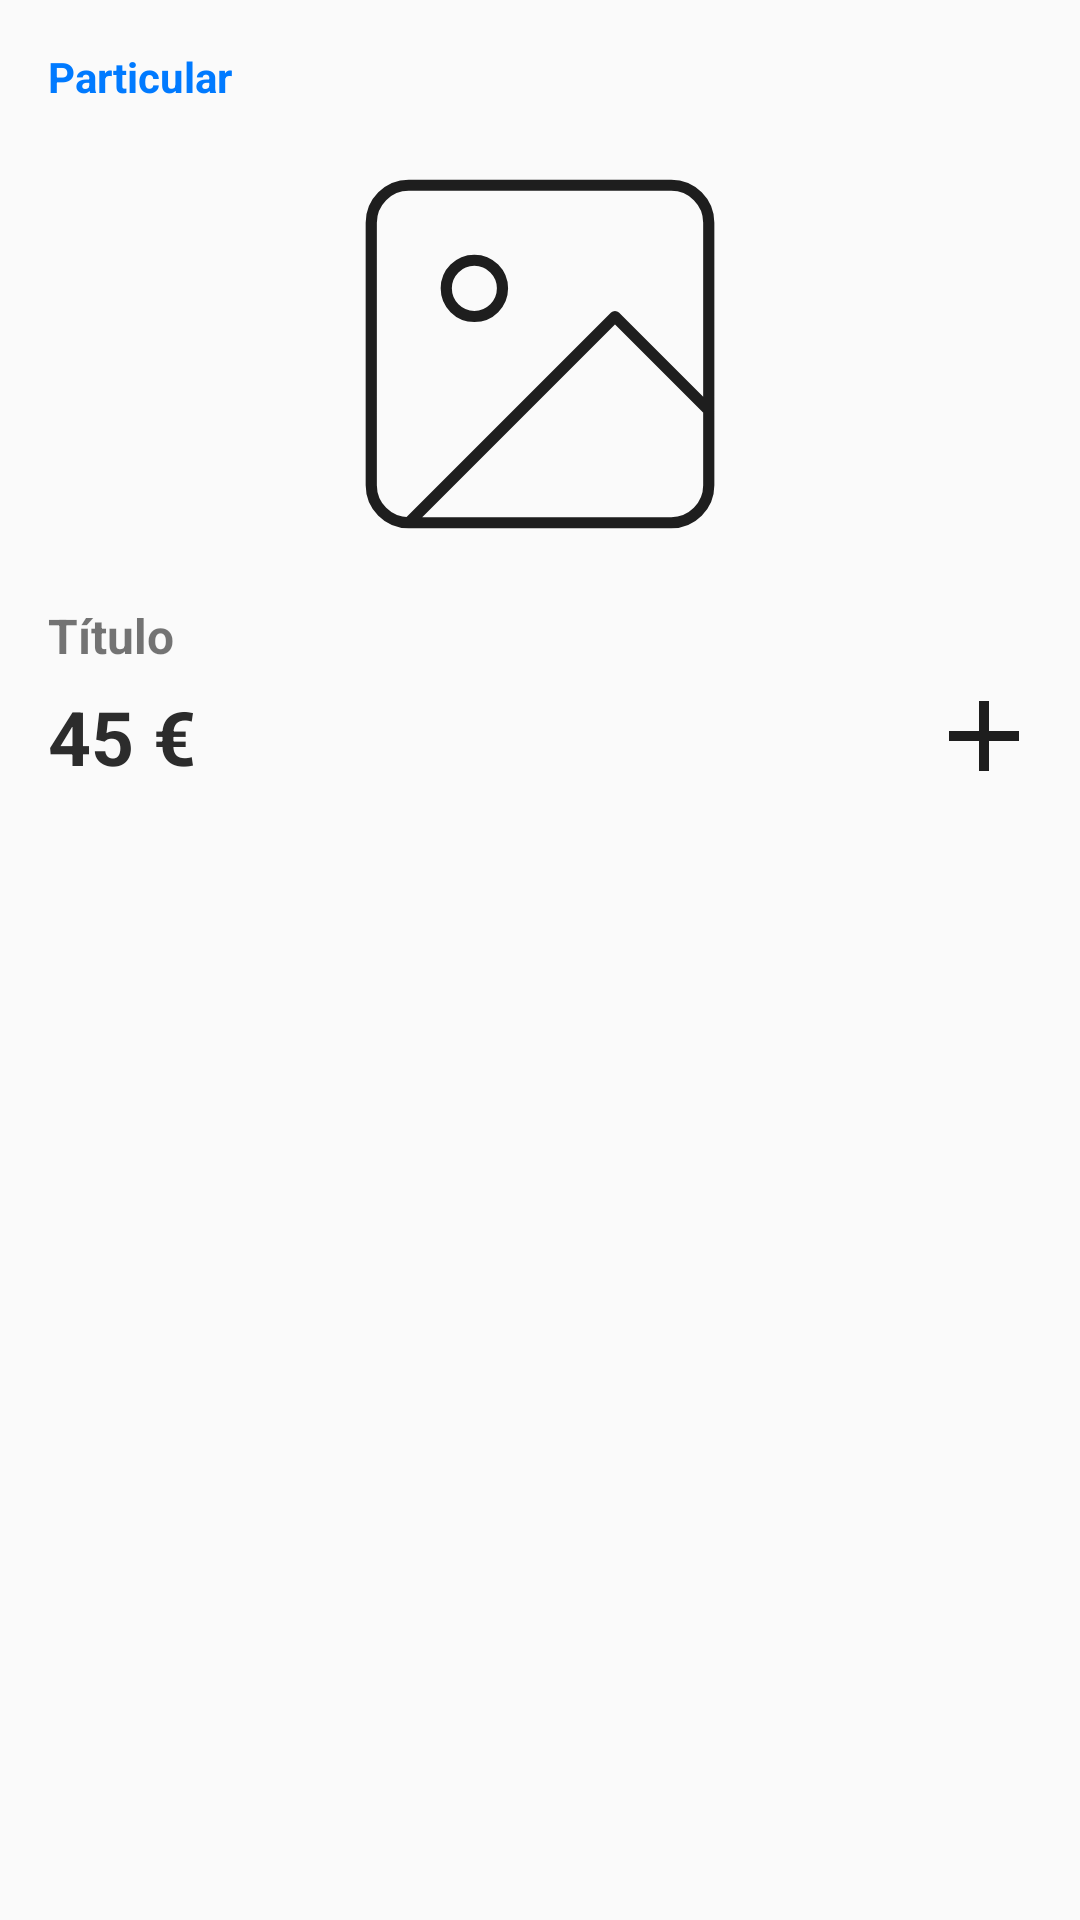

Where icons sit on this 1080×1920 app screen, as (left=x1, top=y1, right=x2, bottom=y2):
add: (left=949, top=701, right=1019, bottom=771)
